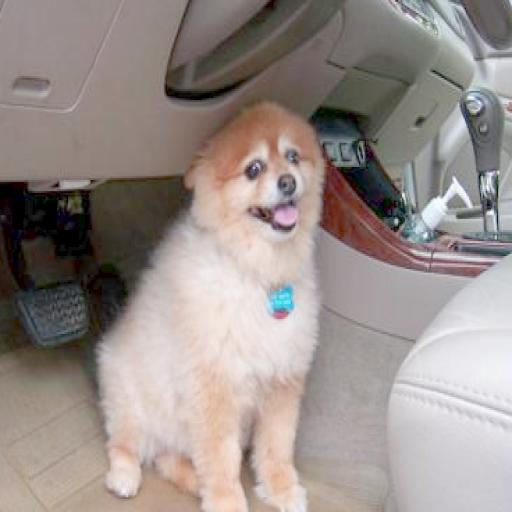dog_face: (194, 102, 321, 260)
